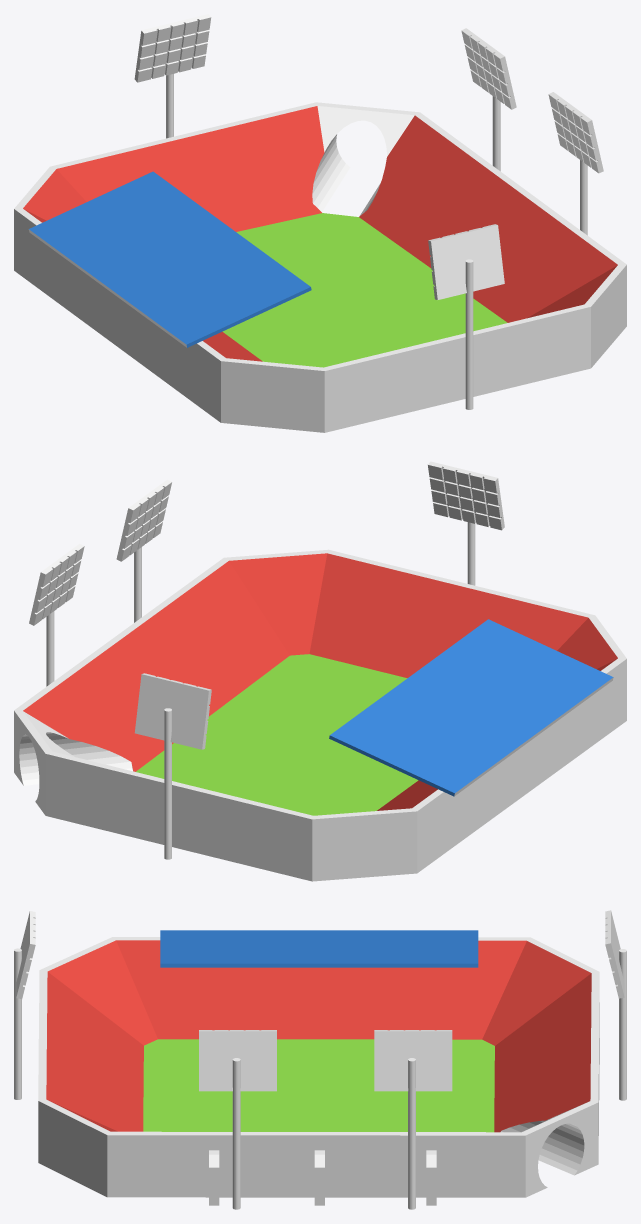
File: Stadion.fbx
3 renders of one model, top to bottom at view 1: azimuth 30°, elevation 25°; view 2: azimuth 150°, elevation 25°; view 3: azimuth 270°, elevation 25°, orthographic.
Visible parts, largest first — view 1: Circle, Cube.003, Cube.004, Cube.006, Cube.005, Cylinder.002, Cylinder.003; view 2: Circle, Cube.004, Cube.003, Cube.005, Cube.006, Cylinder.001, Cylinder.003; view 3: Circle, Cube.005, Cube.006, Cylinder.004, Cylinder.003, Cylinder.001, Cylinder.002, Cube.003, Cube.004, Cube, Cube.001, Cube.002.
Part boxes in pixels (box(x1,y1,x2,y2)): Circle: box(14, 102, 626, 432); Cube.003: box(428, 224, 504, 299); Cube.004: box(134, 14, 211, 82); Cube.006: box(548, 92, 603, 173); Cube.005: box(461, 28, 516, 109); Cylinder.002: box(465, 259, 473, 409); Cylinder.003: box(492, 96, 500, 171); Circle: box(14, 549, 626, 881); Cube.004: box(134, 673, 211, 749); Cube.003: box(428, 461, 504, 530); Cube.005: box(29, 543, 84, 625); Cube.006: box(116, 479, 171, 561); Cylinder.001: box(164, 708, 171, 859); Cylinder.003: box(46, 611, 54, 686); Circle: box(38, 930, 599, 1197); Cube.005: box(374, 1030, 452, 1091); Cube.006: box(199, 1030, 276, 1091); Cylinder.004: box(232, 1058, 240, 1209); Cylinder.003: box(408, 1058, 415, 1209); Cylinder.001: box(619, 949, 626, 1100); Cylinder.002: box(14, 948, 21, 1099); Cube.003: box(16, 911, 35, 998); Cube.004: box(605, 910, 624, 998); Cube: box(209, 1150, 219, 1205); Cube.001: box(314, 1150, 324, 1205); Cube.002: box(426, 1150, 436, 1205).
Bounding box in the file's own units: 239 × 88.77 × 287.
